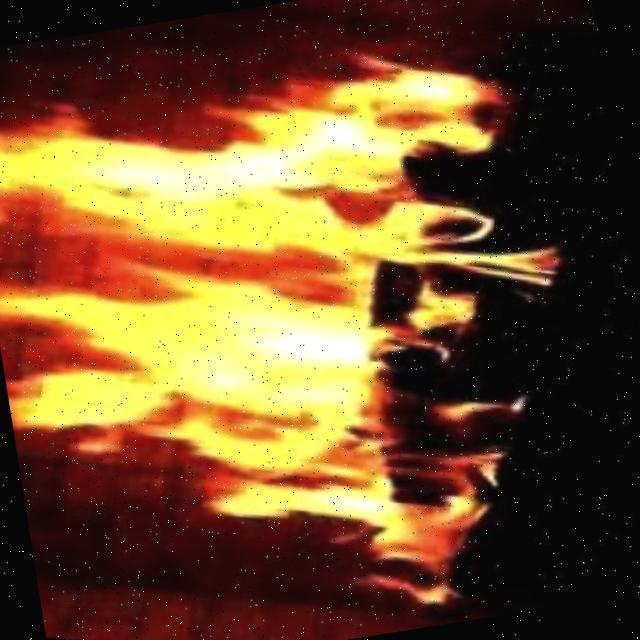fire: (0, 0, 573, 557)
